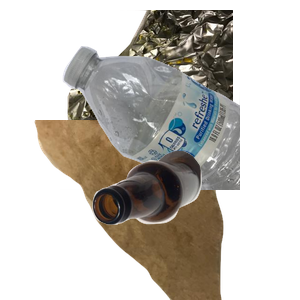glass: (90, 148, 300, 300)
metal: (60, 10, 300, 190)
plastic: (60, 44, 300, 224)
trash: (32, 120, 248, 300)
